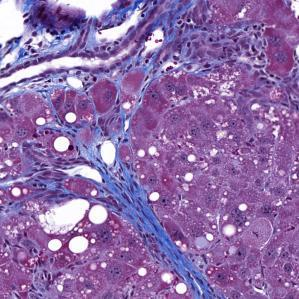fibrosis: (84, 12, 265, 78), (100, 161, 167, 243)
